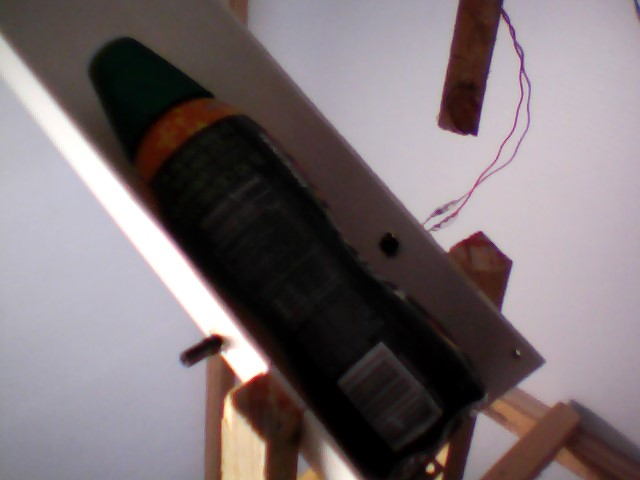plastico: (64, 28, 510, 480)
